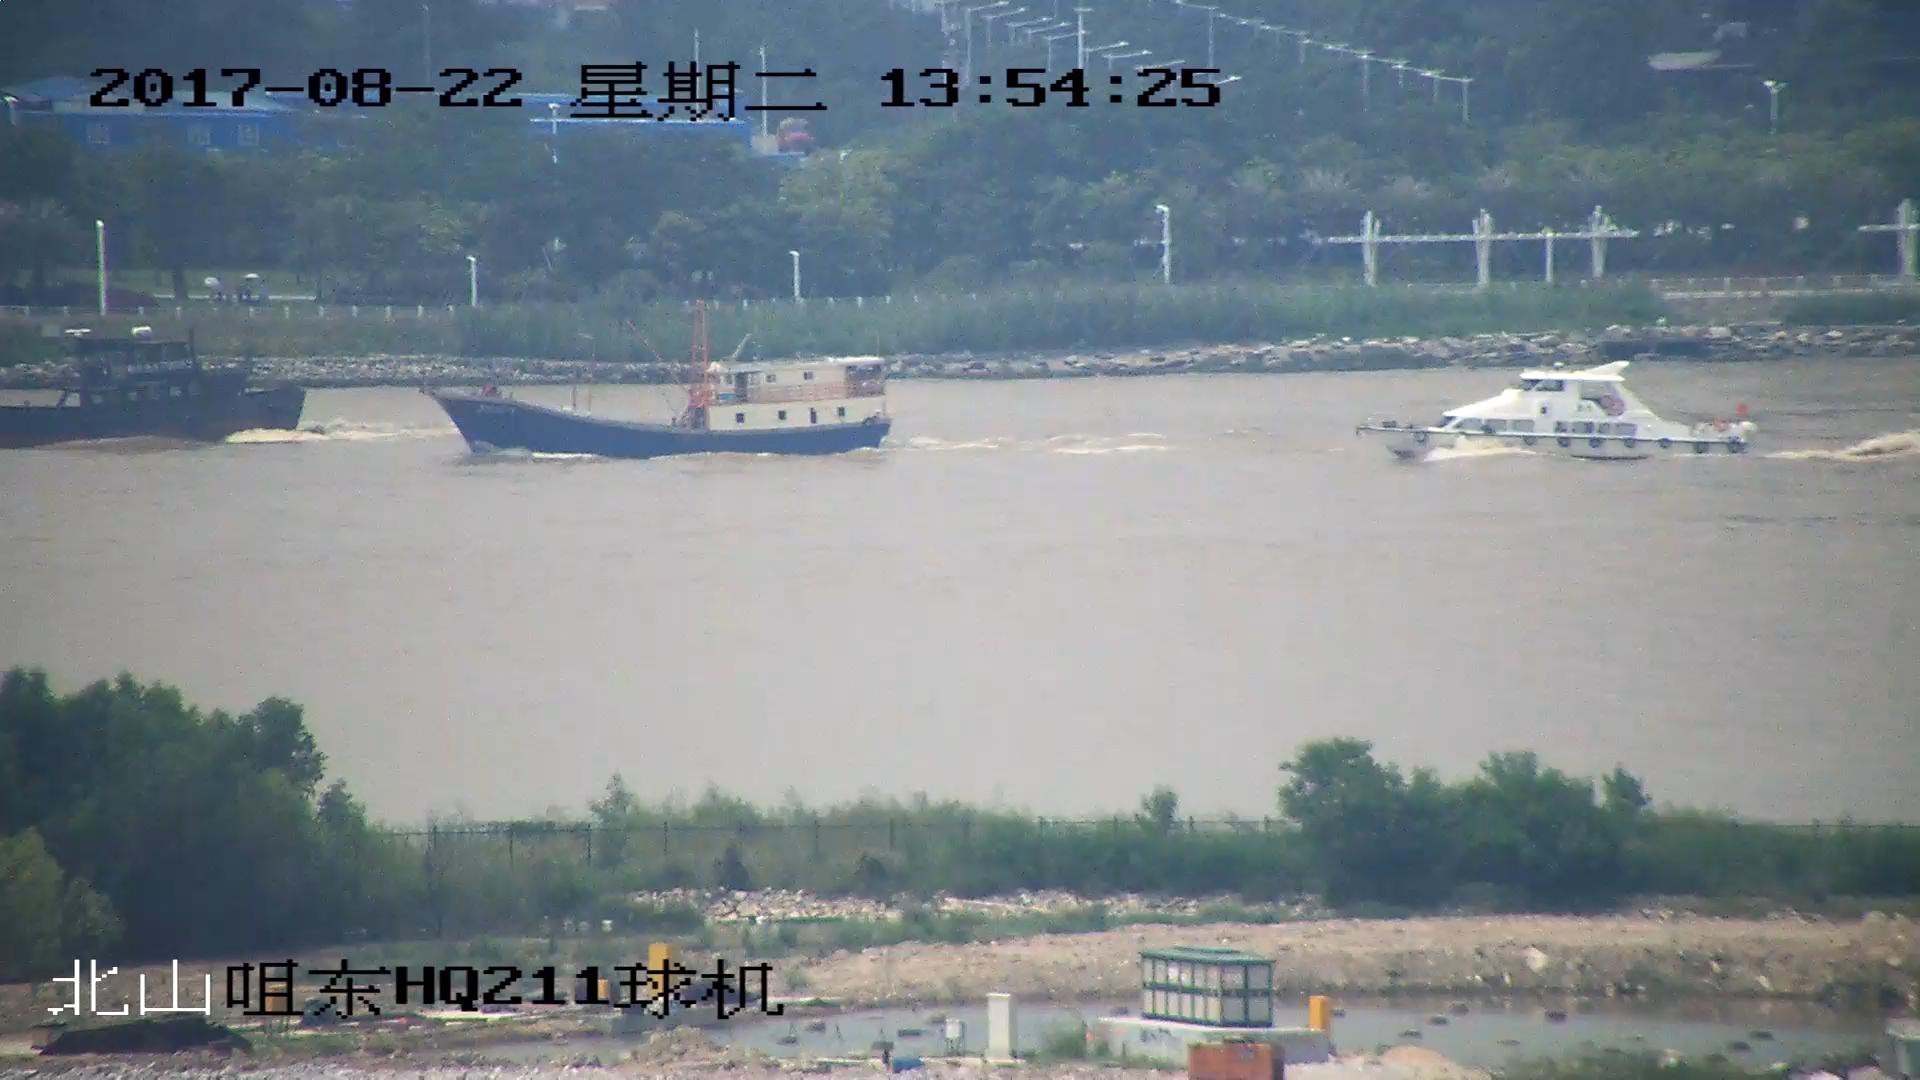fishing boat: (430, 323, 894, 463), (1, 328, 300, 445)
passenger ship: (1364, 355, 1748, 471)
